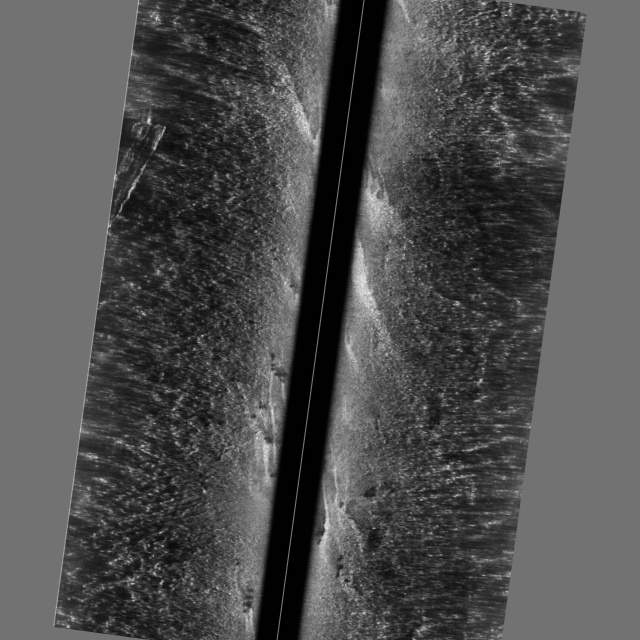Shipwreck: (107, 114, 167, 235)
